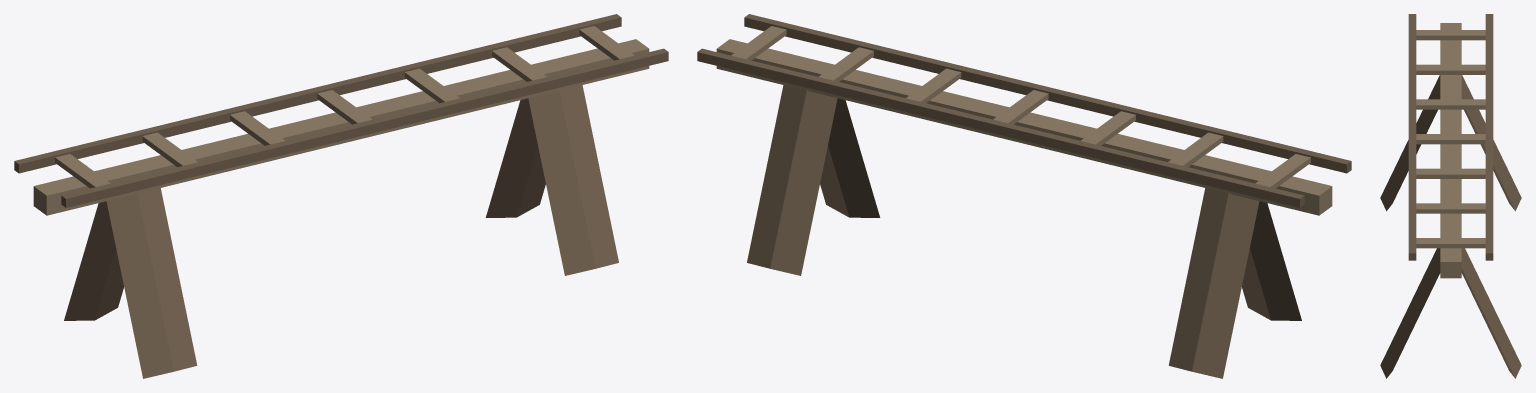
File: ladder_rack.glb
3 renders of one model, left to right at view 1: azimuth 30°, elevation 25°; view 2: azimuth 150°, elevation 25°; view 3: azimuth 270°, elevation 25°, orthographic. The views are drawn at different scales.
Parts seen in each view (by area): view 1: ladder_rack; view 2: ladder_rack; view 3: ladder_rack.
Part boxes in pixels (box(x1,y1,x2,y2)): ladder_rack: box(14, 14, 668, 378); ladder_rack: box(697, 14, 1351, 378); ladder_rack: box(1380, 14, 1521, 378).
Size of the model in its own units: 3.84 by 1.15 by 0.96.
